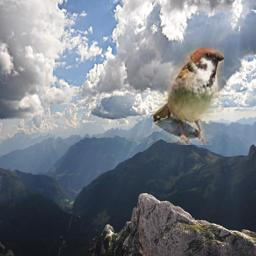Sparrow: (153, 47, 224, 145)
